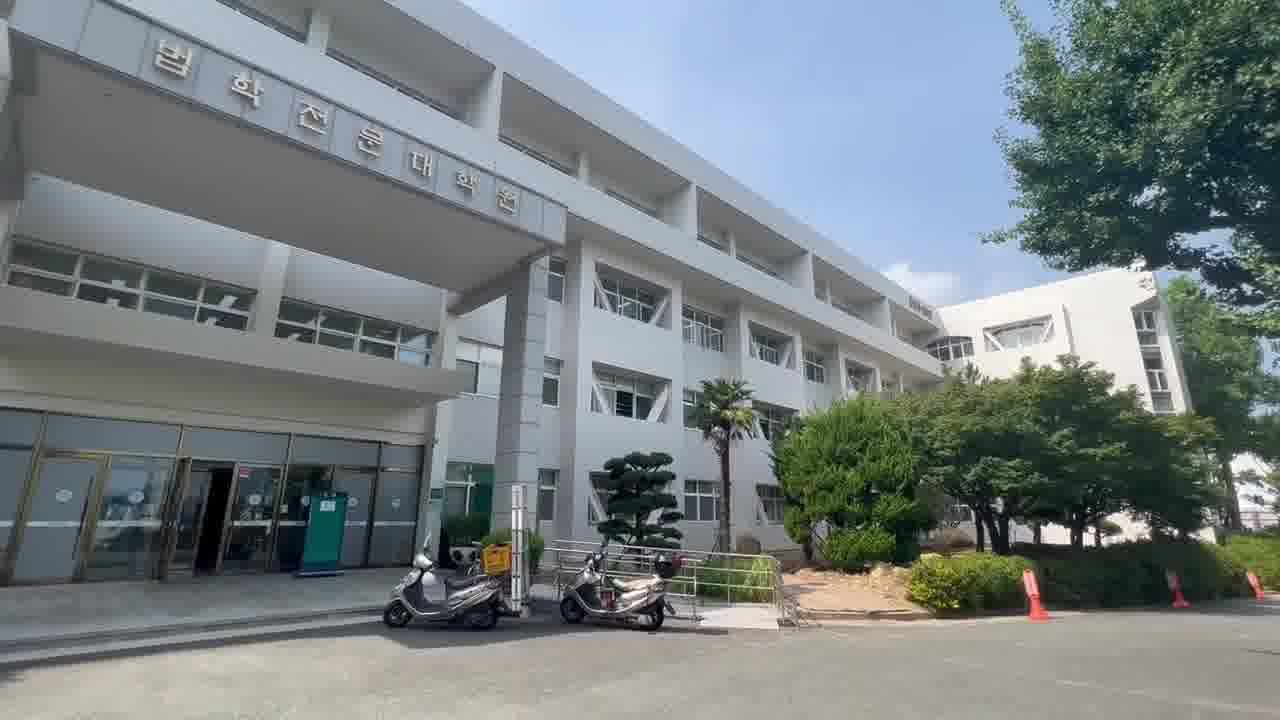building: (0, 0, 791, 587)
